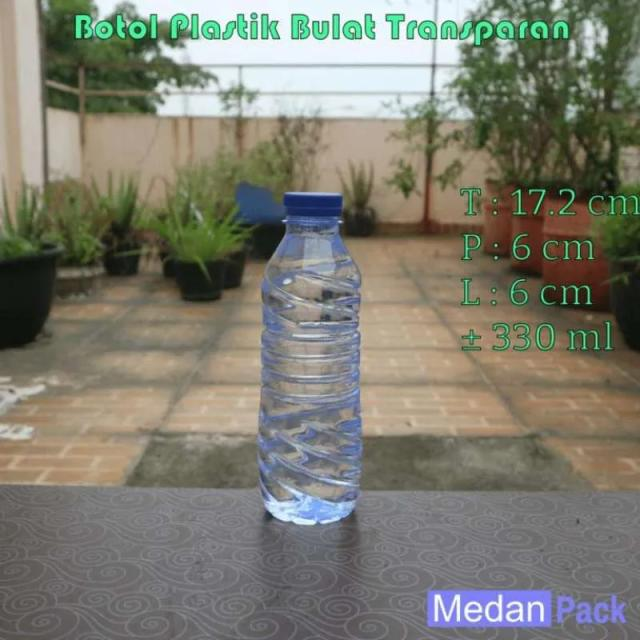bottle: (257, 191, 369, 526)
